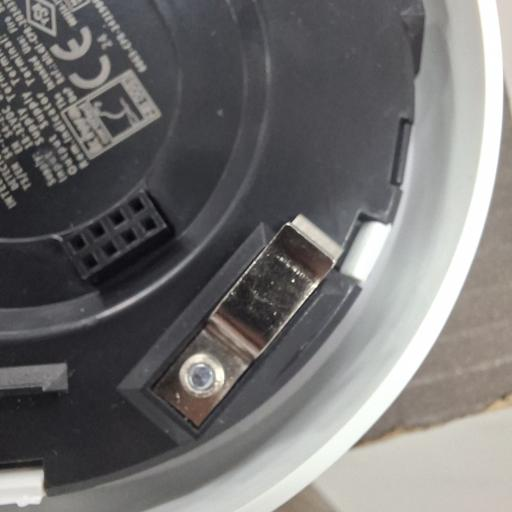yayli: (148, 218, 339, 429)
